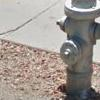Hydrant: (52, 2, 100, 99)
